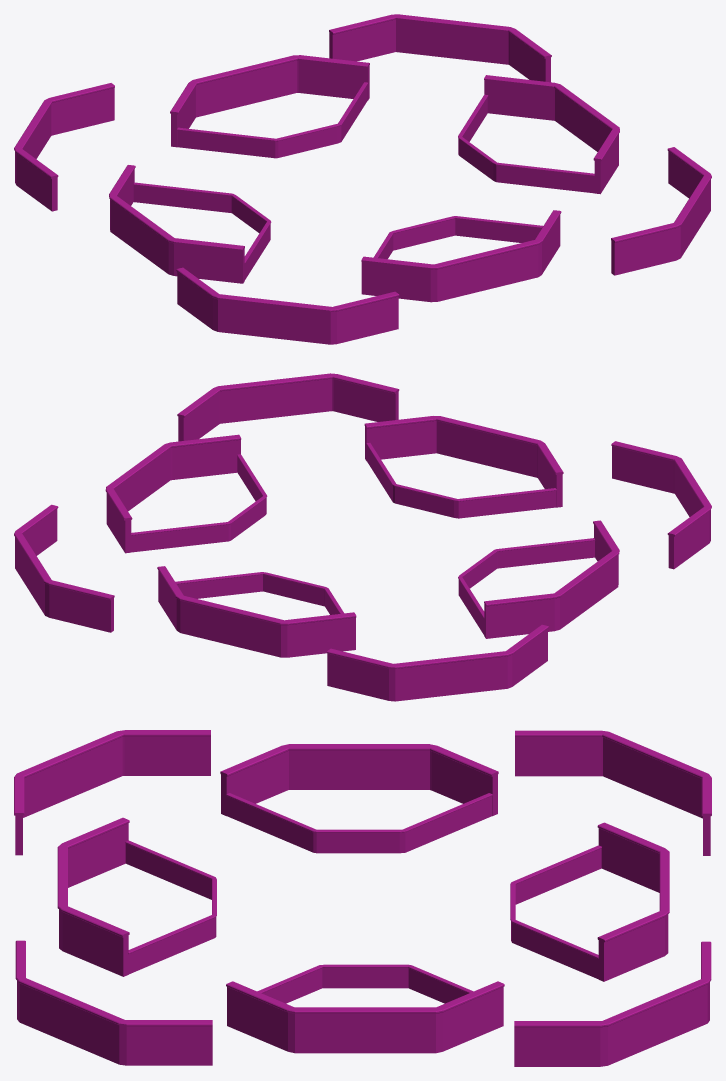
The model's file is muros.obj.
The picture shows the model from 3 angles, top to bottom: view 1: azimuth 30°, elevation 25°; view 2: azimuth 150°, elevation 25°; view 3: azimuth 270°, elevation 25°; orthographic projection. The views are drawn at different scales.
Parts seen in each view (by area): view 1: muro_alto, muro_habitat_bajo002, muro_habitat_bajo001, muro_habitat_bajo003, muro_alto003, muro_alto002, muro_alto001; view 2: muro_alto, muro_habitat_bajo002, muro_habitat_bajo001, muro_habitat_bajo003, muro_alto001, muro_alto003, muro_alto002; view 3: muro_alto, muro_habitat_bajo003, muro_habitat_bajo001, muro_habitat_bajo002, muro_alto002, muro_alto001, muro_alto003.
Boxes of the visible parts, bbox=[...] form: muro_alto: bbox=[14, 83, 561, 302]; muro_habitat_bajo002: bbox=[170, 55, 369, 158]; muro_habitat_bajo001: bbox=[458, 75, 619, 194]; muro_habitat_bajo003: bbox=[109, 165, 271, 283]; muro_alto003: bbox=[176, 267, 399, 344]; muro_alto002: bbox=[329, 14, 551, 82]; muro_alto001: bbox=[611, 147, 711, 275]; muro_alto: bbox=[327, 416, 563, 701]; muro_habitat_bajo002: bbox=[157, 566, 356, 657]; muro_habitat_bajo001: bbox=[105, 434, 267, 553]; muro_habitat_bajo003: bbox=[458, 520, 619, 638]; muro_alto001: bbox=[177, 373, 399, 441]; muro_alto003: bbox=[611, 441, 711, 569]; muro_alto002: bbox=[14, 504, 114, 632]; muro_alto: bbox=[57, 730, 711, 976]; muro_habitat_bajo003: bbox=[220, 744, 498, 853]; muro_habitat_bajo001: bbox=[226, 964, 504, 1053]; muro_habitat_bajo002: bbox=[510, 822, 669, 981]; muro_alto002: bbox=[514, 941, 711, 1066]; muro_alto001: bbox=[15, 940, 212, 1065]; muro_alto003: bbox=[14, 730, 210, 855].
Size of the model in its own units: 342 by 22.91 by 342.
